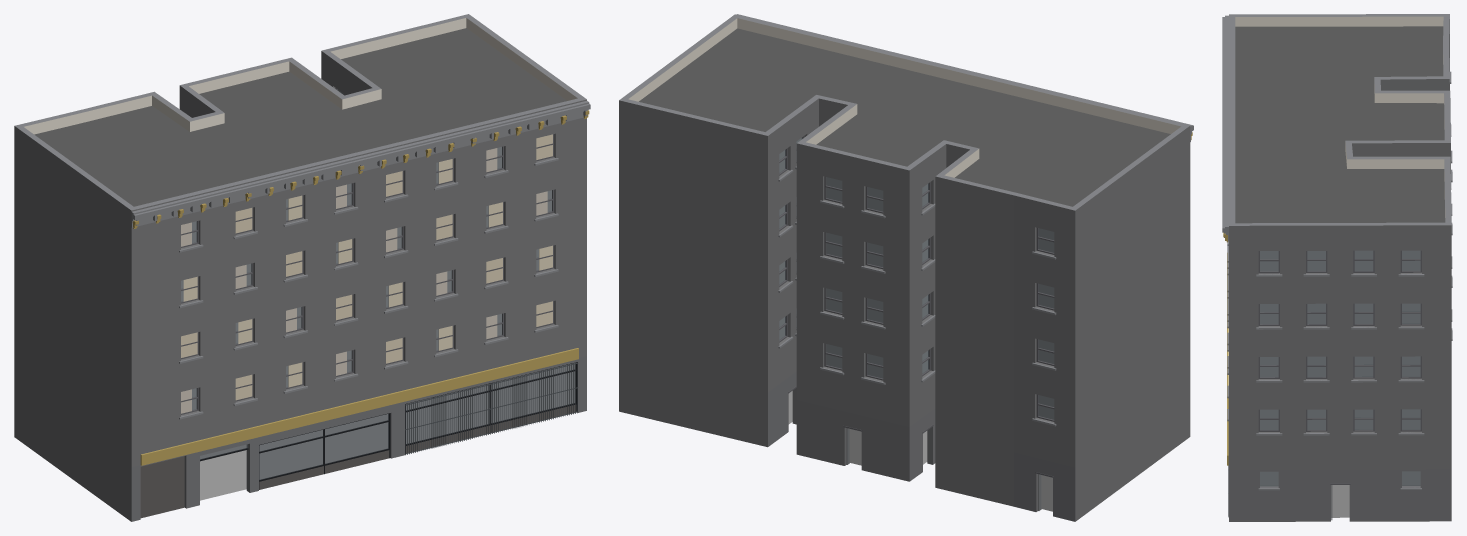
Rendered from exterior.glb.
3 renders of one model, left to right at view 1: azimuth 30°, elevation 25°; view 2: azimuth 150°, elevation 25°; view 3: azimuth 270°, elevation 25°, orthographic. The views are drawn at different scales.
Parts seen in each view (by area): view 1: shell, roof, glazing, shadow-proxy, storefront, facade-r10, trim, front-dressing, frames, front-dressing-r4; view 2: shell, roof, shadow-proxy, glazing, frames, trim; view 3: shell, roof, shadow-proxy, glazing, trim, frames, front-dressing.
Boxes of the visible parts, x1=… form: shell: x1=14, y1=14, x2=586, y2=521; roof: x1=34, y1=28, x2=566, y2=206; glazing: x1=181, y1=90, x2=575, y2=479; shadow-proxy: x1=181, y1=90, x2=574, y2=500; storefront: x1=140, y1=362, x2=578, y2=518; facade-r10: x1=181, y1=134, x2=552, y2=413; trim: x1=131, y1=101, x2=590, y2=419; front-dressing: x1=140, y1=348, x2=578, y2=465; frames: x1=181, y1=88, x2=554, y2=414; front-dressing-r4: x1=132, y1=110, x2=589, y2=228; shell: x1=619, y1=14, x2=1190, y2=521; roof: x1=639, y1=28, x2=1170, y2=206; shadow-proxy: x1=779, y1=138, x2=1053, y2=511; glazing: x1=779, y1=137, x2=1054, y2=419; frames: x1=779, y1=136, x2=1054, y2=421; trim: x1=736, y1=14, x2=1193, y2=426; shell: x1=1229, y1=14, x2=1451, y2=521; roof: x1=1235, y1=26, x2=1445, y2=223; shadow-proxy: x1=1260, y1=251, x2=1420, y2=517; glazing: x1=1260, y1=250, x2=1420, y2=486; trim: x1=1222, y1=15, x2=1452, y2=490; frames: x1=1258, y1=250, x2=1421, y2=431; front-dressing: x1=1227, y1=253, x2=1228, y2=465.
Size of the model in its own units: 27.17 by 17.65 by 12.44.
